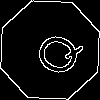Q: (25, 25, 86, 81)
